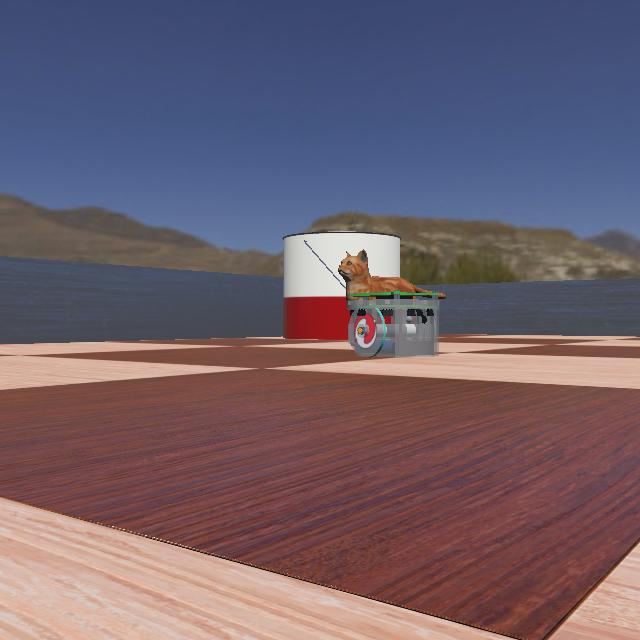paint-bucket: (278, 228, 430, 340)
